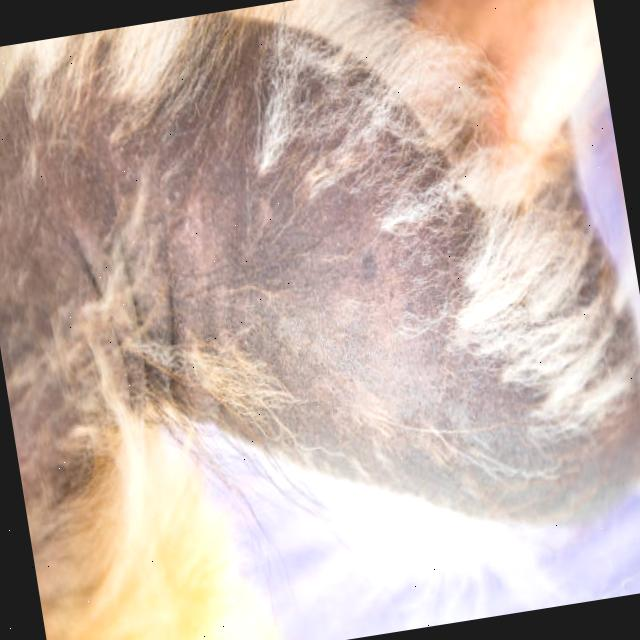cat-hairloss: (0, 53, 468, 457), (450, 372, 622, 501)
